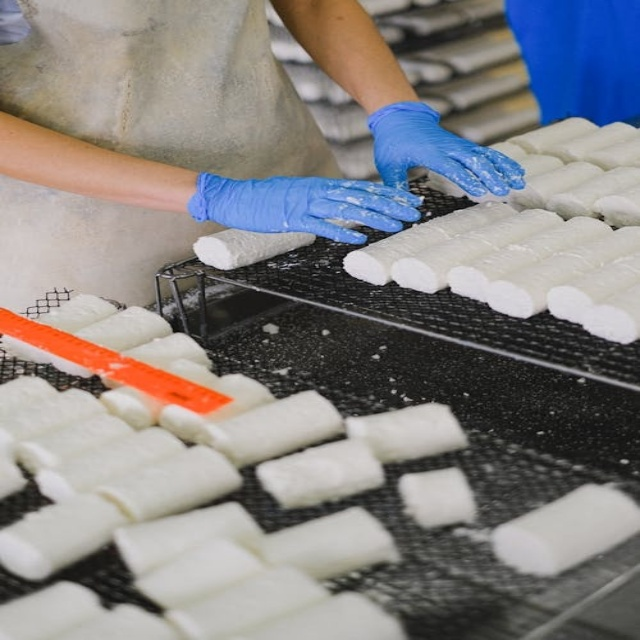Guantes: (357, 96, 527, 201), (189, 171, 422, 246)
